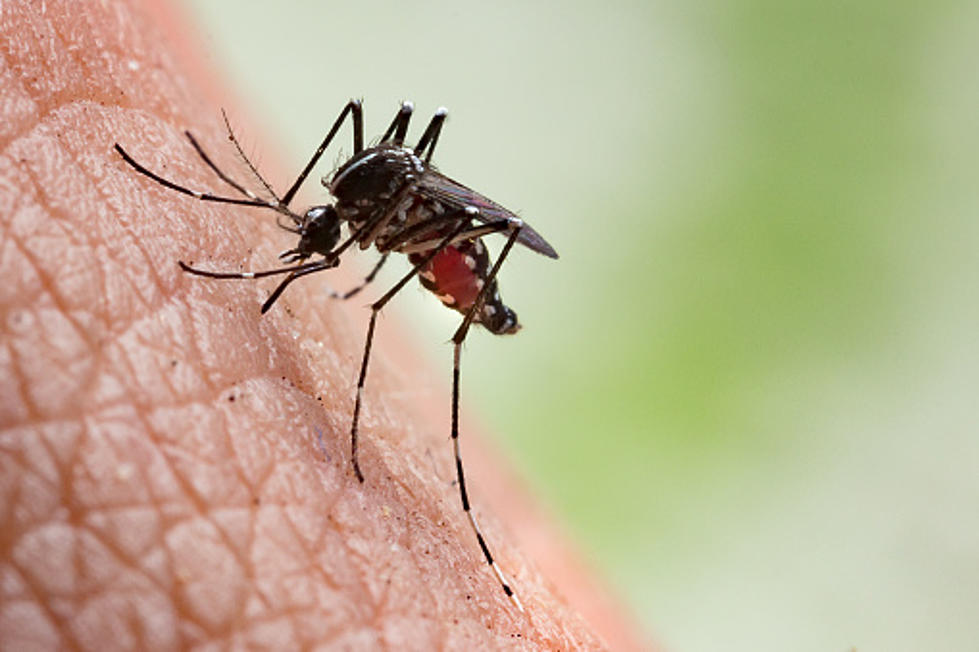dengue_mosquito: (113, 97, 561, 483)
